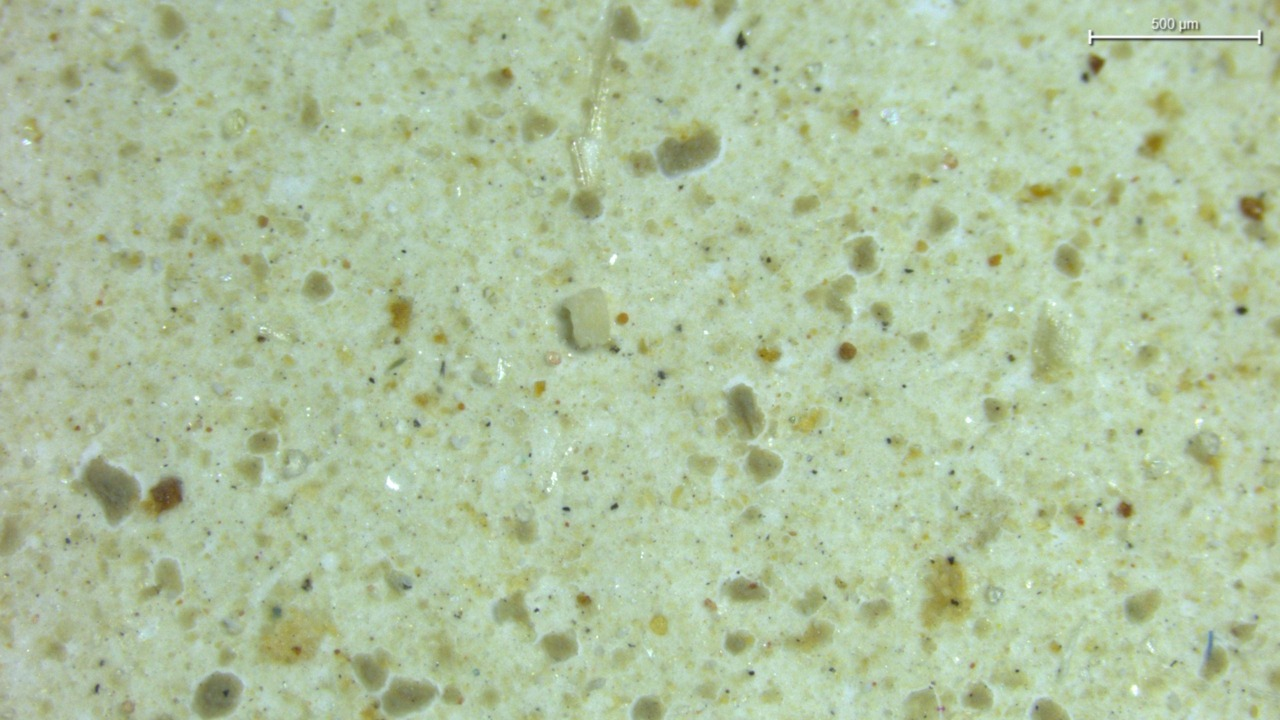microplastic_fragment: (563, 288, 611, 349)
